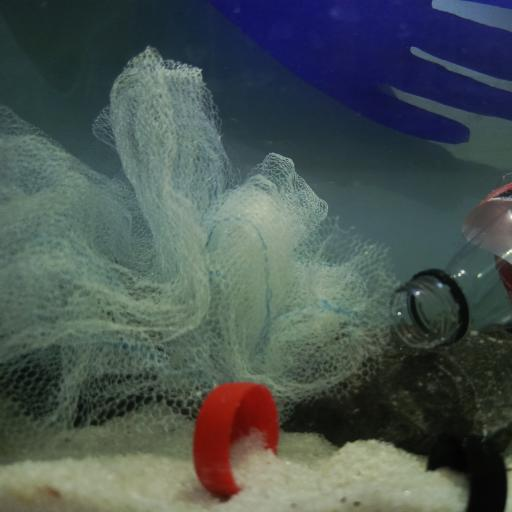bottle_cap: (194, 378, 280, 500)
glove: (222, 0, 512, 148)
net: (4, 40, 398, 438)
plastic_bottle: (389, 168, 512, 362)
